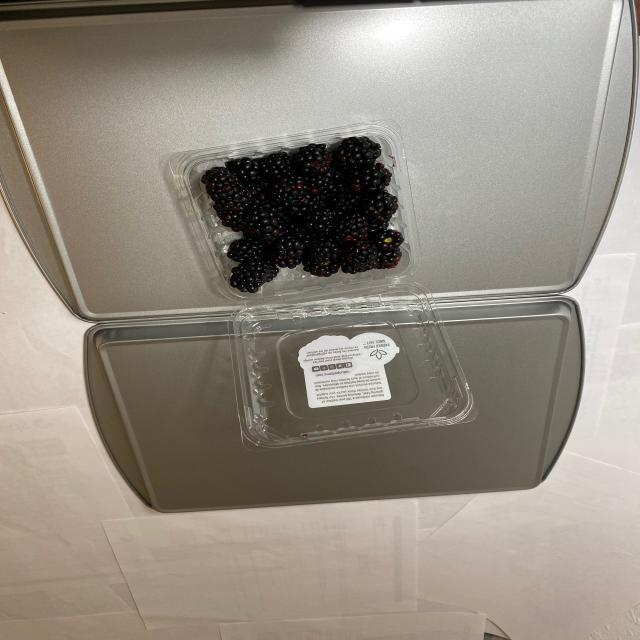blackberries: (227, 134, 399, 296)
